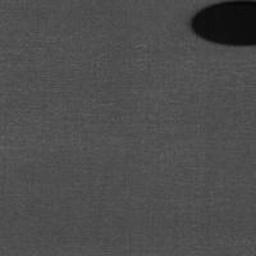Punching: (191, 0, 256, 46)
